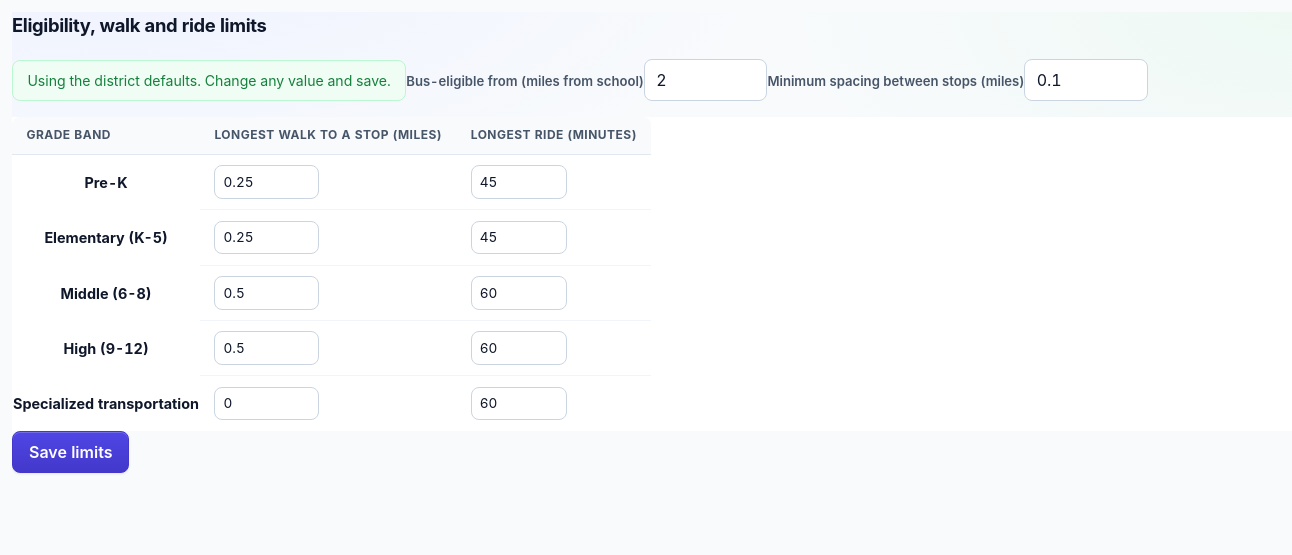
Scenario: TransportationRulesSection › shows a save error
The image size is (1292, 555).
Step 1. Click the button "Save limits" → coordinates (71, 452), box [12, 431, 130, 473]
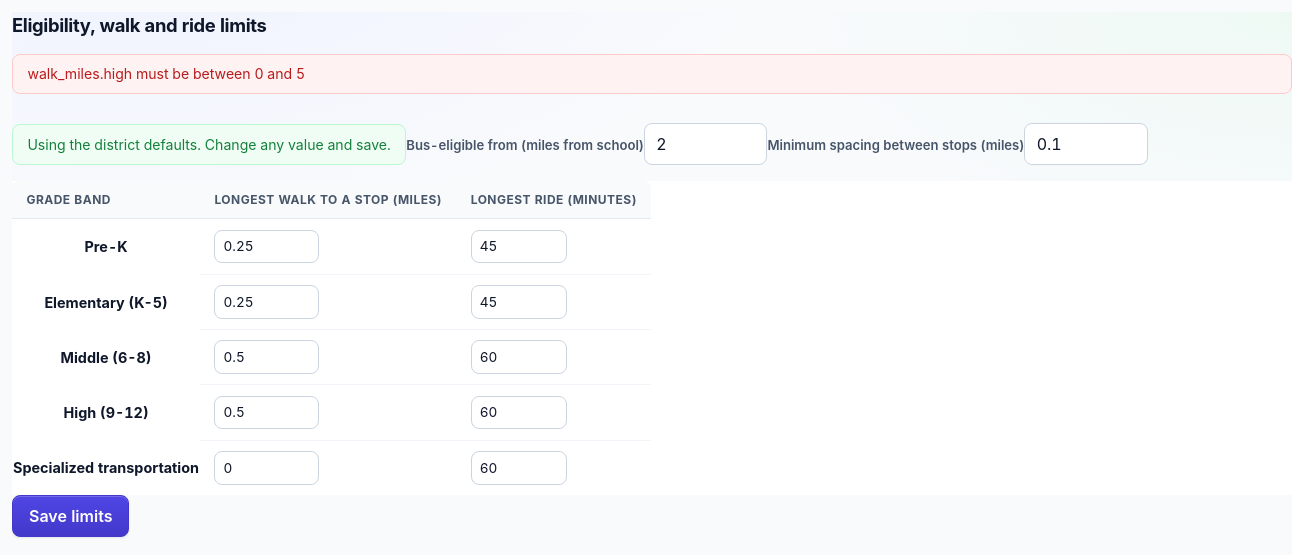
Result: the message shows "between 0 and 5" at [27, 66, 305, 82]
